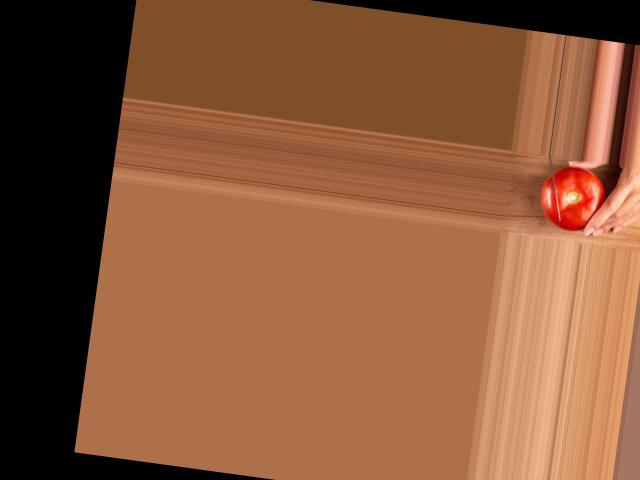tomato: (537, 163, 609, 234)
